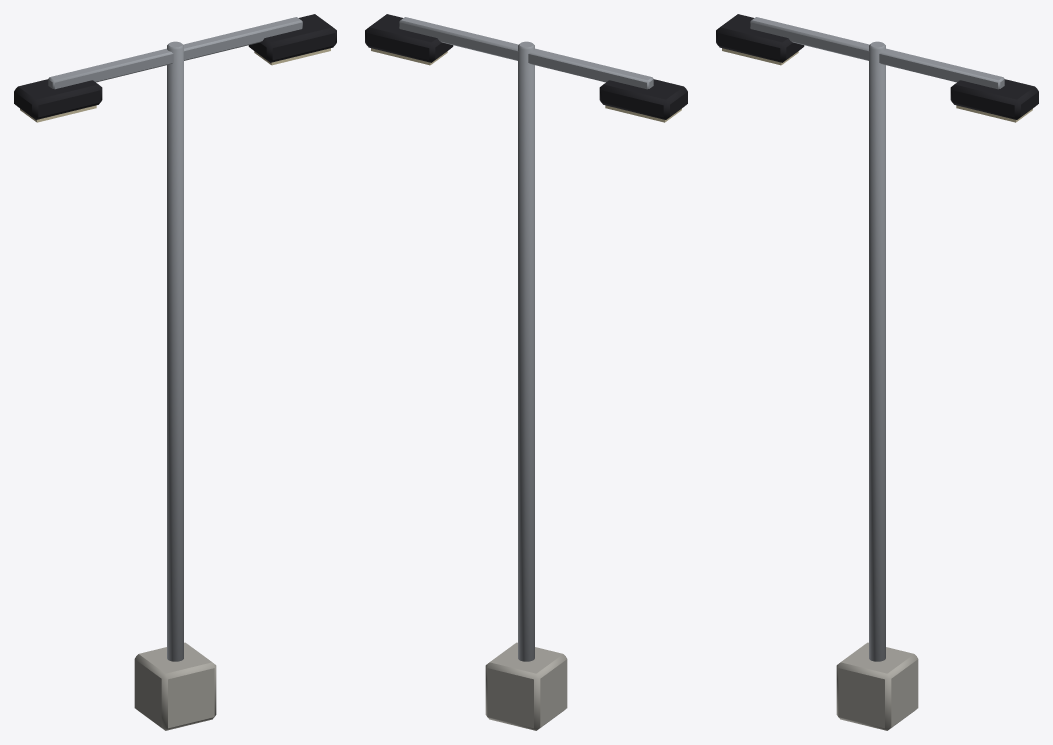
File: LotLamp.fbx
3 renders of one model, left to right at view 1: azimuth 30°, elevation 25°; view 2: azimuth 150°, elevation 25°; view 3: azimuth 330°, elevation 25°, orthographic.
Parts seen in each view (by area): view 1: LotLamp; view 2: LotLamp; view 3: LotLamp.
Part boxes in pixels (box(x1,y1,x2,y2)): LotLamp: box(14, 14, 336, 730); LotLamp: box(365, 14, 687, 730); LotLamp: box(716, 14, 1038, 730).
Size of the model in its own units: 3.9 by 8.2 by 0.7.
